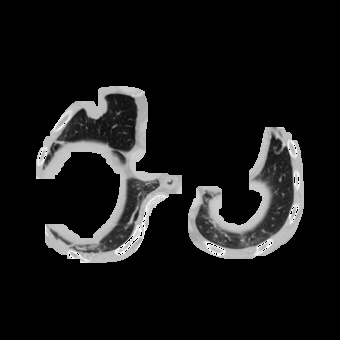PN: (85, 97, 107, 119)
